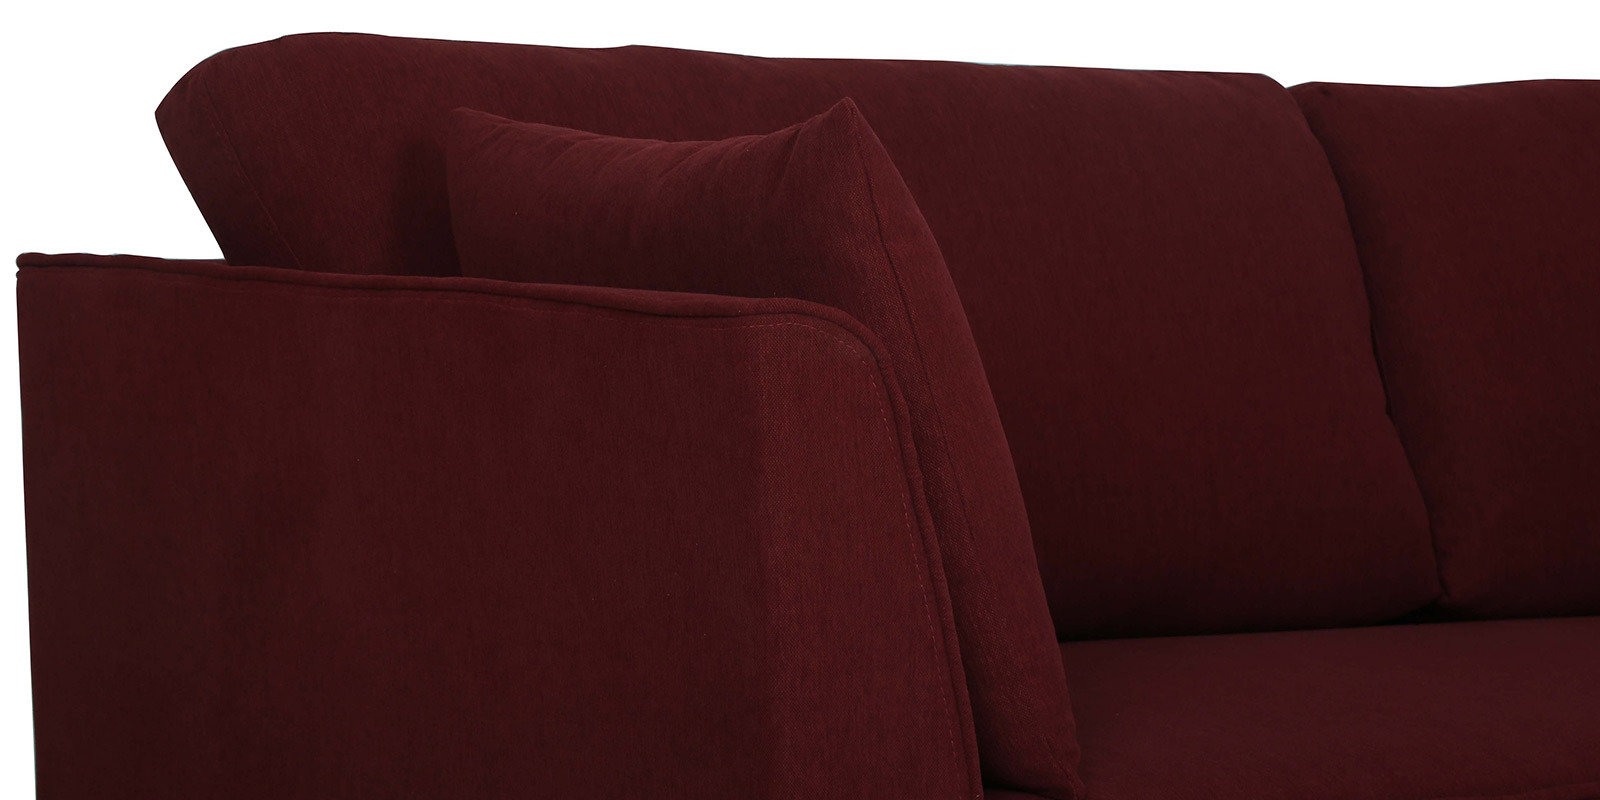Miranda Three Seater Sofa in Garnet Red Colour by CasaCraft: (13, 31, 1597, 800)
